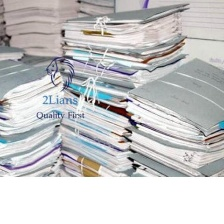book: (57, 0, 190, 178), (121, 57, 223, 177), (0, 41, 70, 177), (0, 0, 80, 59)
